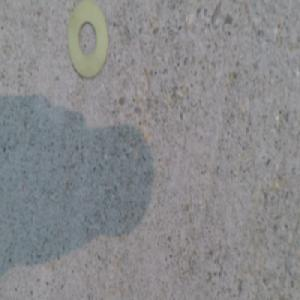Washer: (67, 7, 109, 83)
